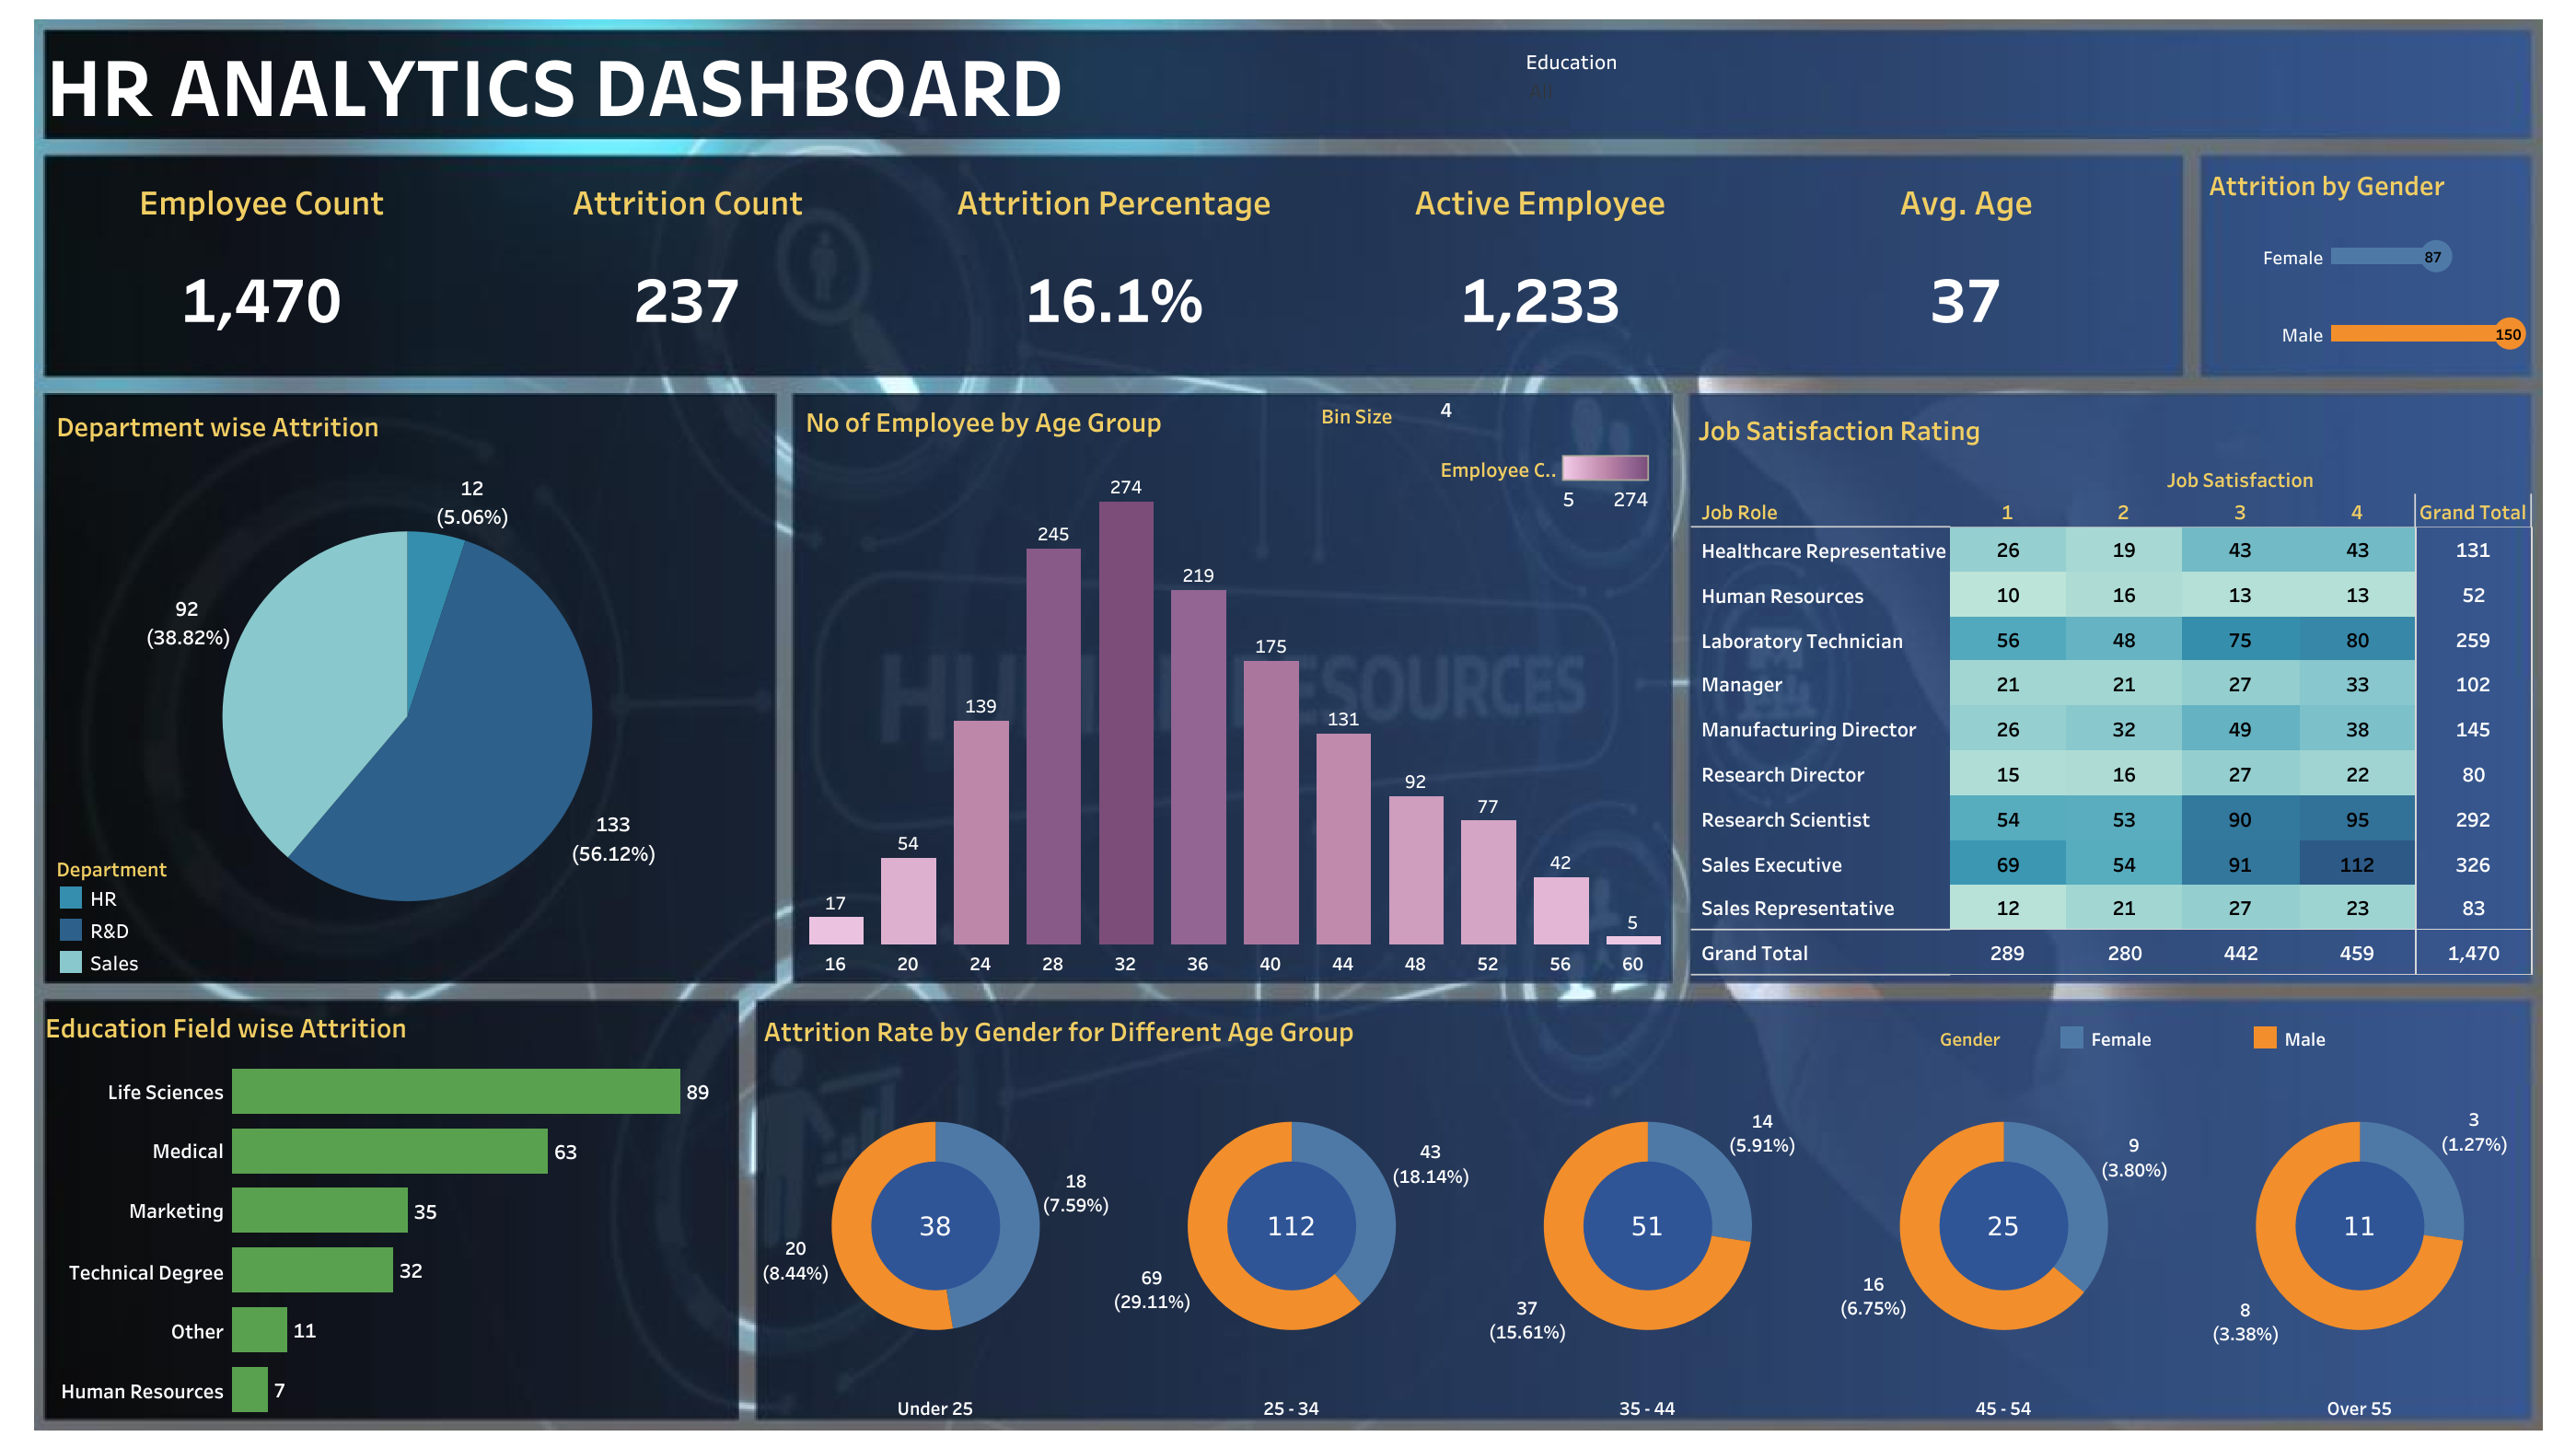

This screenshot's page, from the dashboard's own definition file:
{"tool":"tableau","page":{"name":"HR ANALYTICS DASHBOARD","canvas":[1000,1000],"units":"permille","ordinal":0},"visuals":[{"type":"image","param":"Image/Copy of HR background.pptx.jpg","box":[5.1,8.9,989.9,982.2]},{"type":"text","box":[16.2,21.1,429.4,73.3]},{"type":"filter","title":"Attrition Rate by Gender for Different Age Group","param":"[federated.1ni1nr30h2305v1fywzq61n25tll].[none:Education:nk]","box":[591.9,31.1,118.8,44.4]},{"type":"worksheet","title":"Attrition by Gender","mark":"Automatic","rows":["Gender"],"cols":["Calculation_373798773945864192","Calculation_373798773945864192"],"box":[854.4,107.8,129.4,148.9]},{"type":"worksheet","title":"KPI","mark":"Automatic","box":[18.8,110,826.9,146.7]},{"type":"worksheet","title":"No of Employee by Age Group","mark":"Automatic","rows":["Employee Count"],"cols":["Age (bin)"],"box":[310,271.1,337.5,402.2]},{"type":"parameter","param":"[Parameters].[Parameter 1]","box":[512.5,272.2,136.9,27.8]},{"type":"worksheet","title":"Department wise Attrition","mark":"Pie","box":[19.4,274.4,277.5,396.7]},{"type":"worksheet","title":"Job Satisfaction Rating","mark":"Square","rows":["Job Role"],"cols":["Job Satisfaction"],"box":[656.2,276.7,326.2,396.7]},{"type":"legend","title":"No of Employee by Age Group","param":"[federated.1ni1nr30h2305v1fywzq61n25tll].[sum:Employee Count:qk]","box":[558.8,310,83.8,42.2]},{"type":"legend","title":"Department wise Attrition","param":"[federated.1ni1nr30h2305v1fywzq61n25tll].[none:Department:nk]","box":[21.2,586.7,87.5,86.7]},{"type":"worksheet","title":"Education Field wise Attrition","mark":"Automatic","rows":["Education Field"],"cols":["Calculation_373798773945864192"],"box":[15,688.9,271.9,290]},{"type":"worksheet","title":"Attrition Rate by Gender for Different Age Group","mark":"Pie","rows":["Calculation_373798774037524487","Calculation_373798774037524487"],"cols":["CF_age band"],"box":[293.8,691.1,690.6,288.9]},{"type":"legend","title":"Attrition Rate by Gender for Different Age Group","param":"[federated.1ni1nr30h2305v1fywzq61n25tll].[none:Gender:nk]","box":[752.5,704.4,191.9,30]}]}

Visuals, with their boxes on the dashboard's canvas, which has no fixed pixel size, in thousandths of its width and height (x1, y1, x2, y2). These are canvas units, not pixel positions in the 2576x1448 screenshot, which may show the page scaled, cropped or inside an application window:
image: 5 9 995 991
text: 16 21 446 94
"Attrition Rate by Gender for Different Age Group" filter: 592 31 711 76
"Attrition by Gender" worksheet: 854 108 984 257
"KPI" worksheet: 19 110 846 257
"No of Employee by Age Group" worksheet: 310 271 648 673
parameter: 512 272 649 300
"Department wise Attrition" worksheet (Pie marks): 19 274 297 671
"Job Satisfaction Rating" worksheet (Square marks): 656 277 982 673
"No of Employee by Age Group" legend: 559 310 643 352
"Department wise Attrition" legend: 21 587 109 673
"Education Field wise Attrition" worksheet: 15 689 287 979
"Attrition Rate by Gender for Different Age Group" worksheet (Pie marks): 294 691 984 980
"Attrition Rate by Gender for Different Age Group" legend: 752 704 944 734
